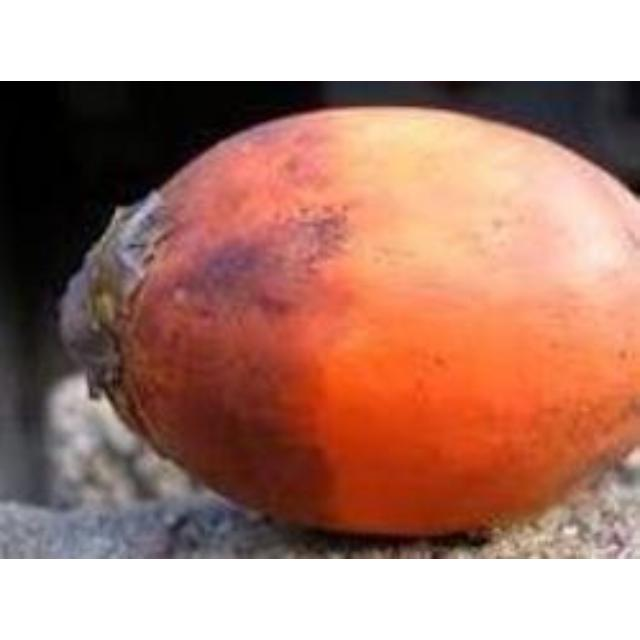good: (56, 107, 637, 547)
